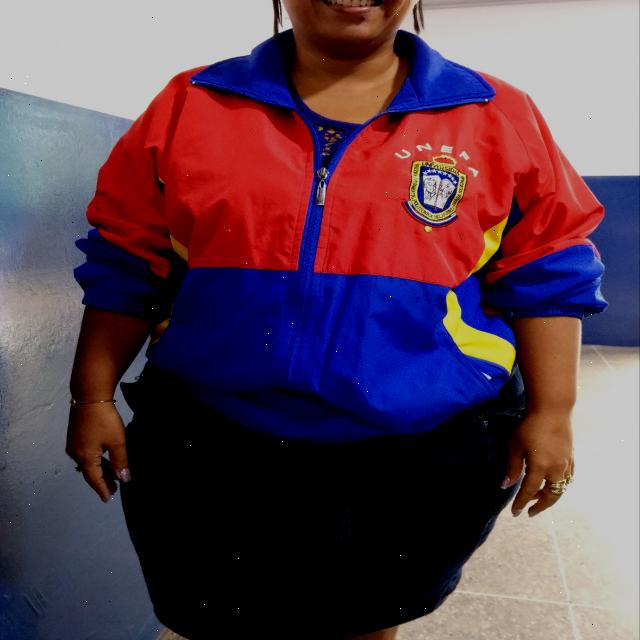chaqueta_unefa: (70, 28, 611, 444)
pantalon_oscuro: (120, 364, 527, 640)
